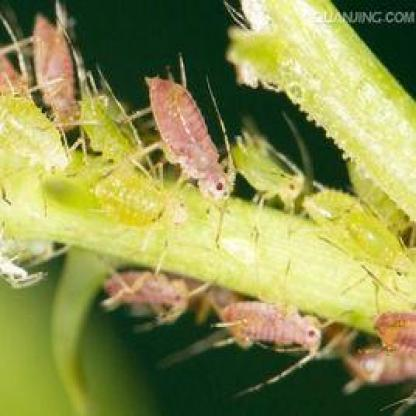aphid: (150, 65, 233, 210), (100, 245, 198, 340), (344, 301, 416, 409), (219, 296, 338, 361), (231, 120, 310, 216), (22, 5, 80, 129), (69, 80, 148, 167), (34, 163, 119, 220), (348, 215, 416, 283), (98, 166, 175, 222), (304, 174, 374, 228)
